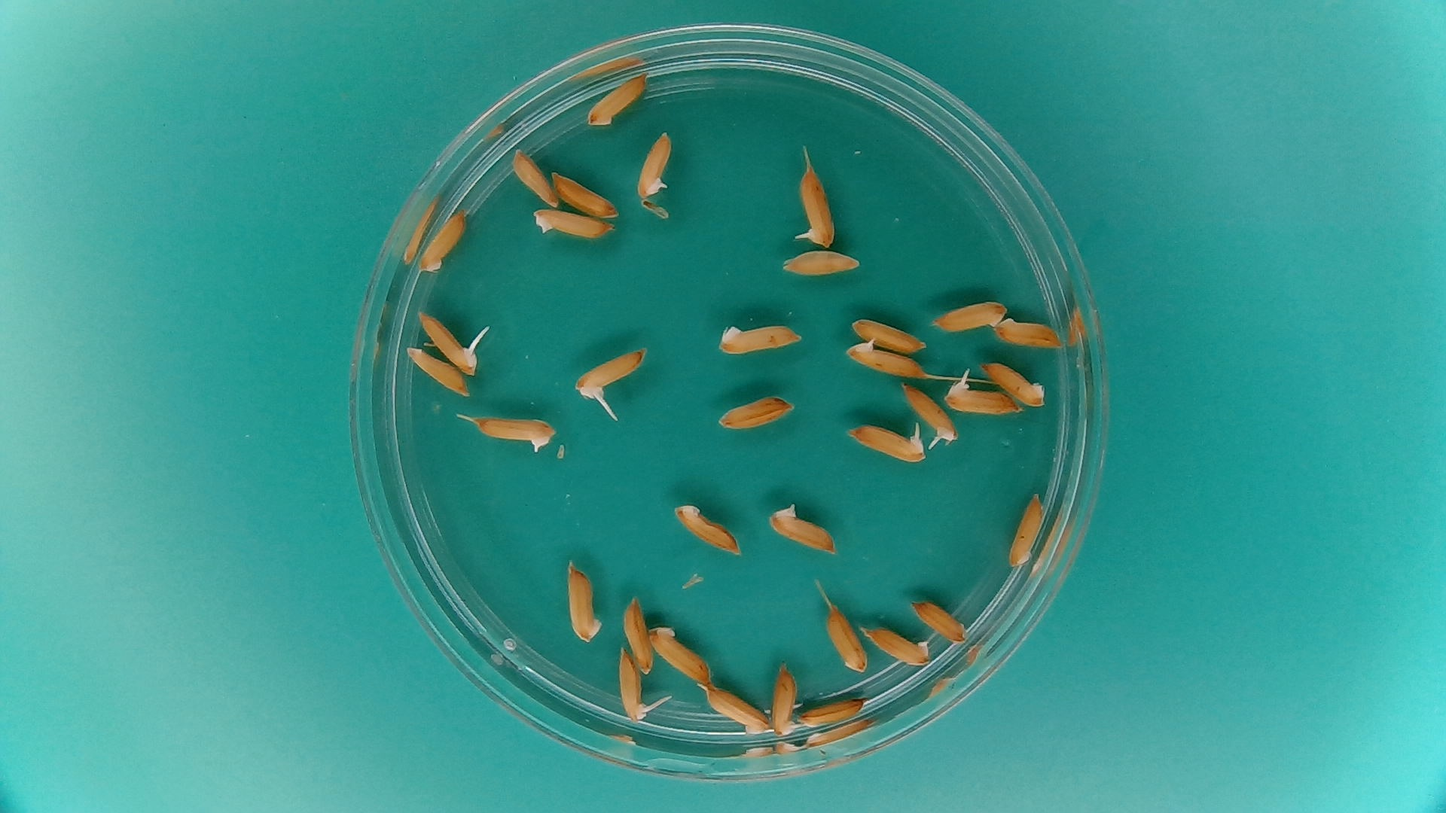no: (671, 500, 743, 559), (764, 501, 840, 556), (648, 624, 715, 686), (584, 69, 652, 128), (403, 342, 471, 398), (702, 682, 773, 735), (716, 318, 805, 359), (563, 557, 604, 646), (470, 412, 556, 454), (416, 207, 468, 276), (552, 170, 620, 219), (981, 358, 1049, 407), (824, 601, 869, 674), (509, 145, 560, 209), (715, 392, 795, 431), (859, 623, 932, 665), (529, 206, 616, 241), (1008, 491, 1046, 571), (929, 296, 1009, 333), (849, 315, 929, 352), (909, 597, 970, 644), (622, 592, 655, 676), (778, 246, 863, 277), (993, 315, 1064, 349), (797, 696, 870, 728)
yes: (416, 307, 477, 375), (900, 379, 959, 445), (843, 419, 929, 464), (575, 346, 647, 395), (844, 339, 930, 378), (941, 375, 1019, 416), (798, 166, 837, 247), (615, 646, 654, 725), (636, 129, 673, 199), (771, 664, 804, 738)
